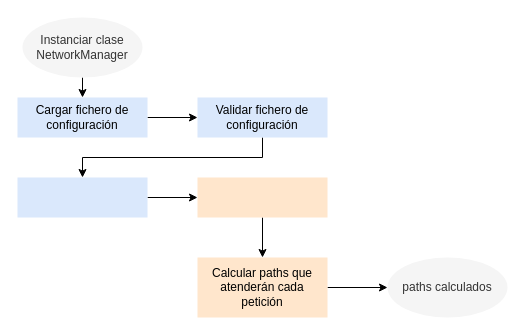
This 524x334 diagram has some shape labels left out. Here are the shapes that lost their labels. From the top down, the centre of each, then its label:
At [82,197]: "Crear la red".
At [262,197]: "Medir fidelidades de cada enlace".
